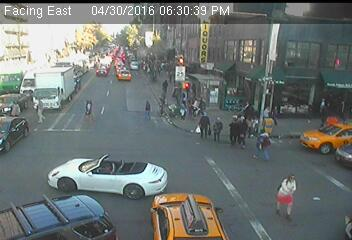neg: (216, 44, 243, 80), (168, 181, 194, 215), (316, 143, 340, 176), (87, 142, 110, 173), (259, 46, 281, 76), (114, 175, 136, 203), (192, 200, 213, 228), (64, 183, 84, 210), (94, 26, 114, 53), (319, 42, 338, 68), (2, 58, 20, 83), (30, 54, 48, 78), (29, 151, 47, 175), (47, 115, 65, 139), (16, 197, 34, 220), (135, 29, 152, 51), (323, 198, 339, 220), (121, 146, 137, 168), (155, 30, 170, 51), (59, 67, 74, 87), (71, 36, 86, 56), (176, 32, 190, 51), (41, 24, 55, 42), (20, 36, 33, 54), (111, 113, 124, 130), (120, 62, 132, 78)
pos: (267, 171, 303, 218), (204, 112, 228, 144), (252, 128, 275, 160), (29, 96, 51, 125), (315, 100, 337, 129), (189, 111, 210, 139), (79, 95, 97, 119), (138, 98, 155, 122), (7, 99, 23, 121), (158, 77, 174, 98), (271, 105, 284, 123)
